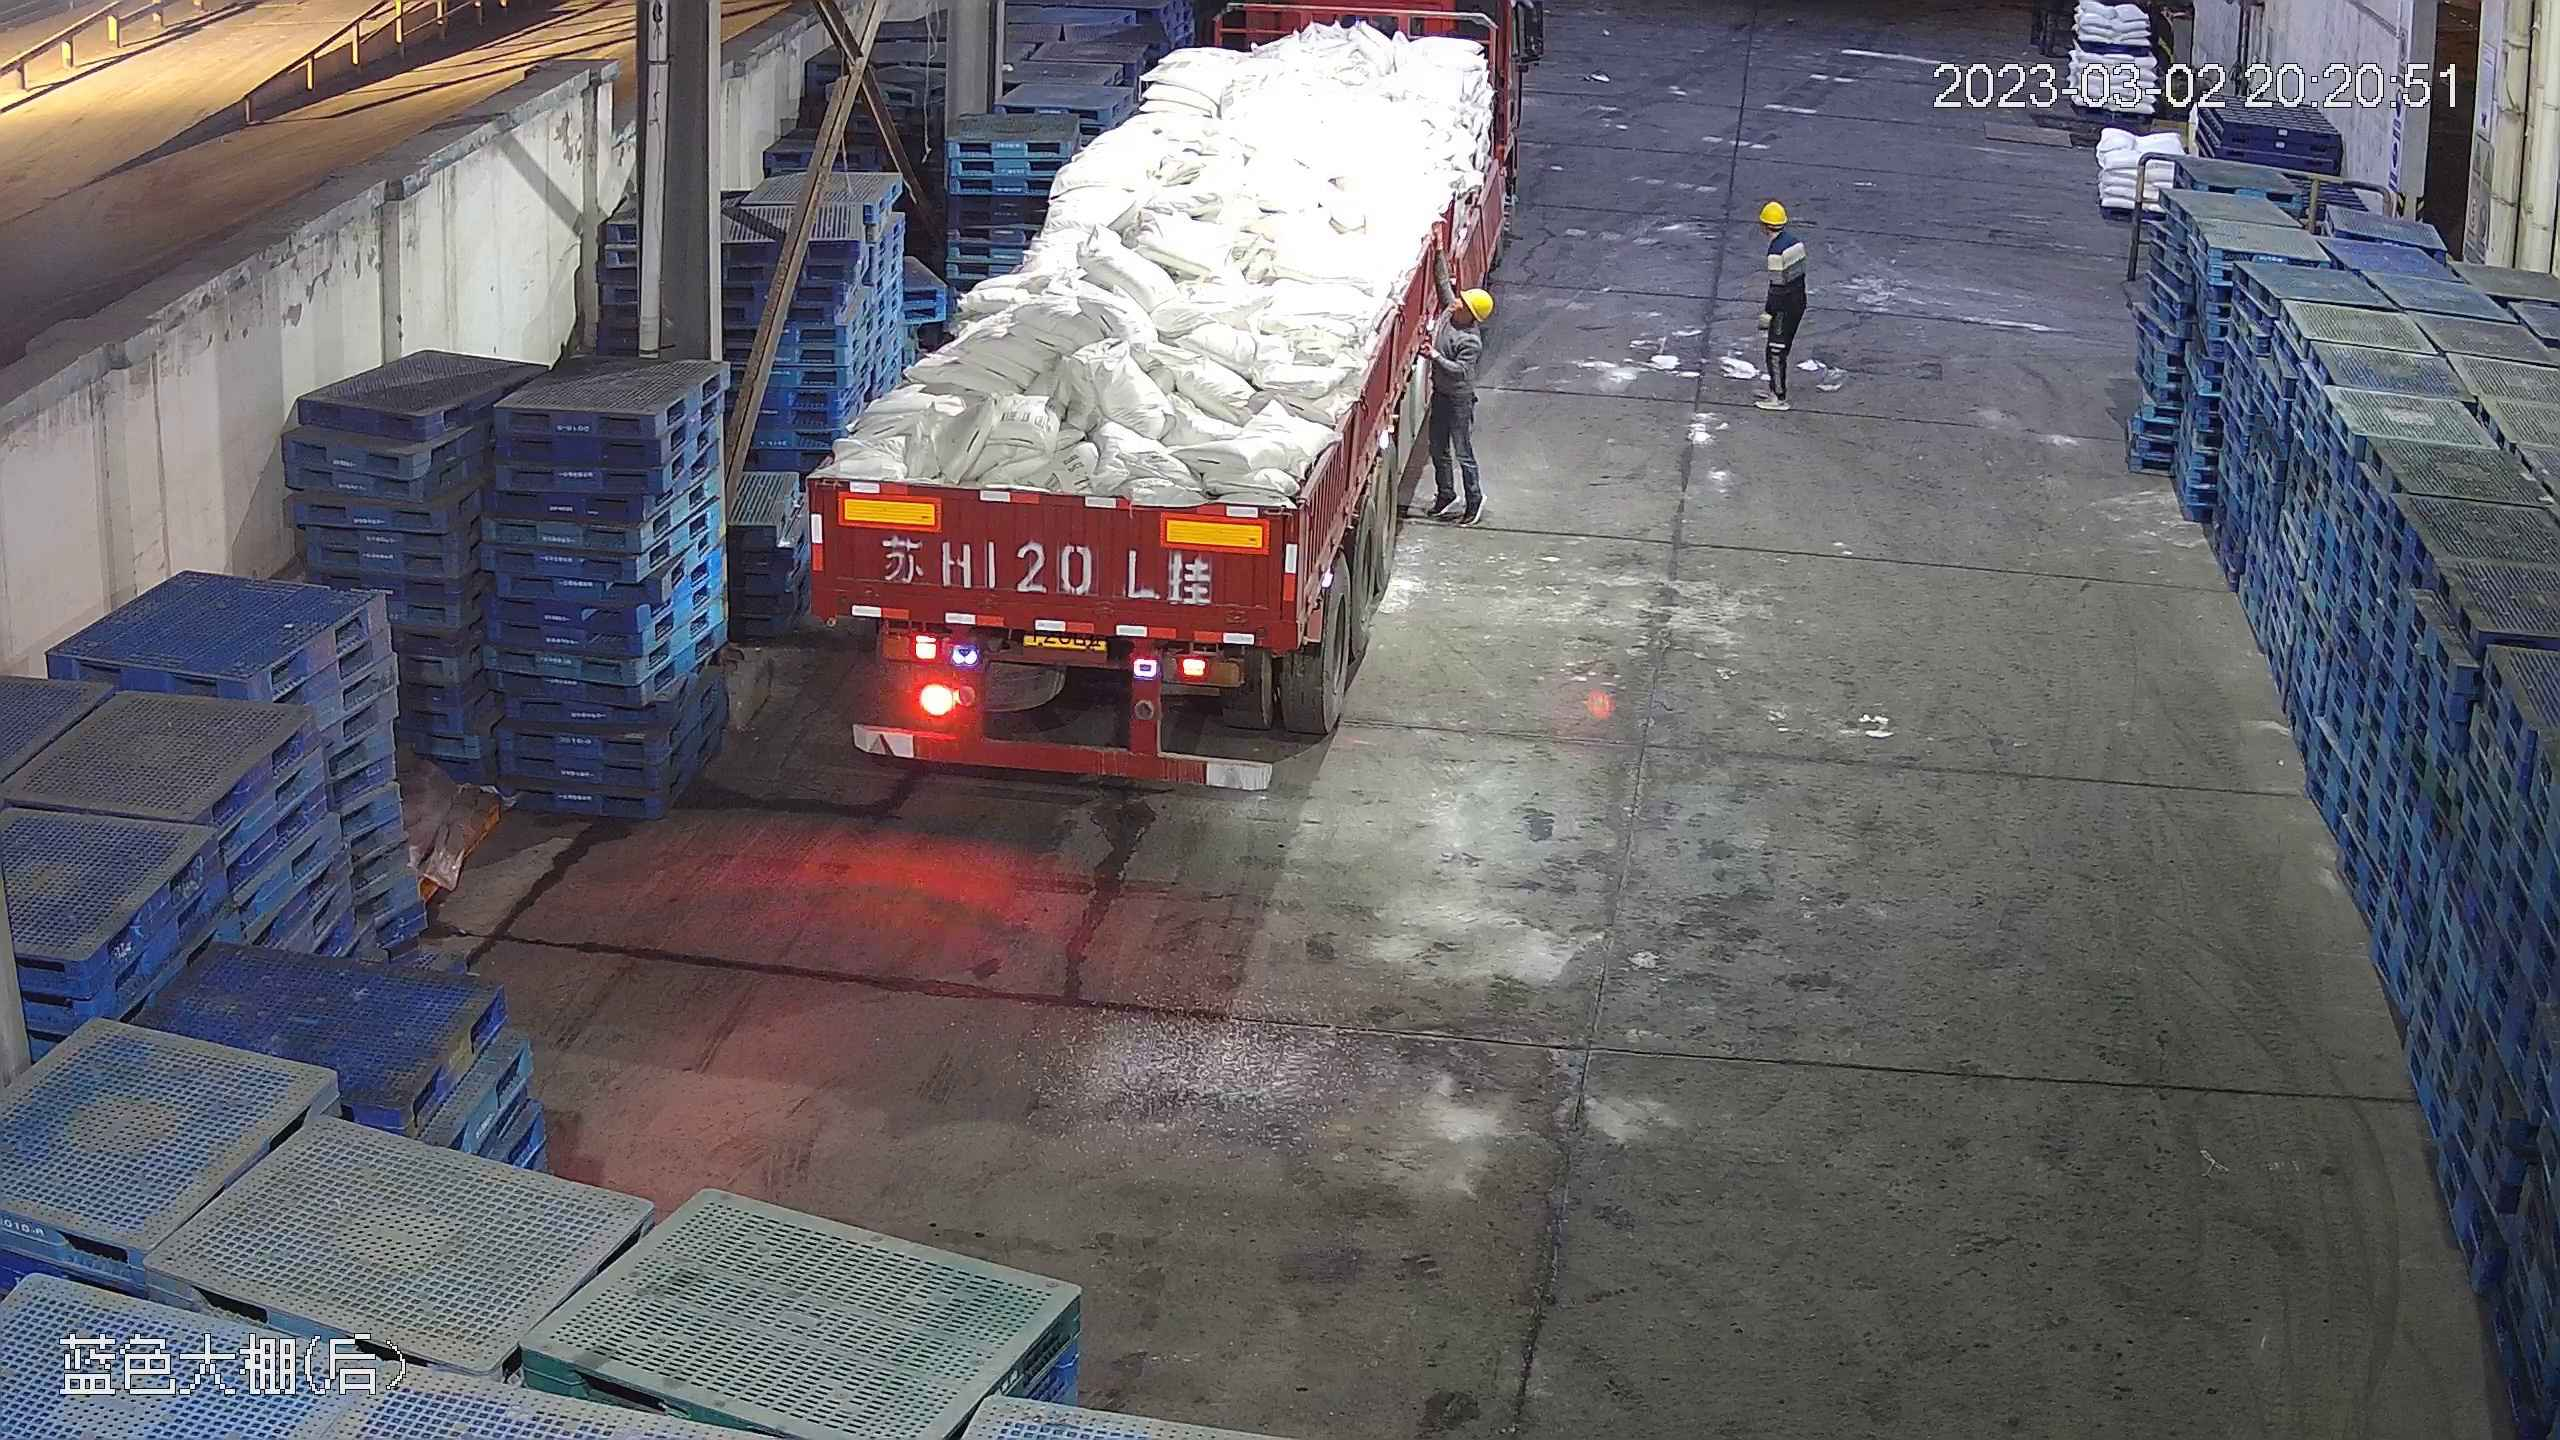belt: (1420, 317, 1474, 370)
head: (1429, 287, 1498, 363), (1757, 198, 1809, 261)
helmet: (1460, 288, 1496, 320), (1756, 198, 1788, 224)
people: (1420, 286, 1499, 530), (1746, 196, 1817, 410)
truck: (800, 3, 1537, 777)
